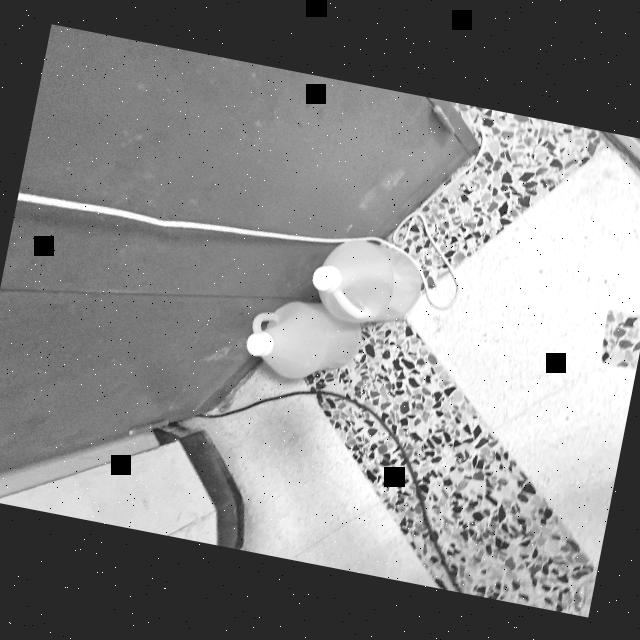chemical_plastic_gallon: (304, 226, 434, 335), (235, 288, 368, 389)
